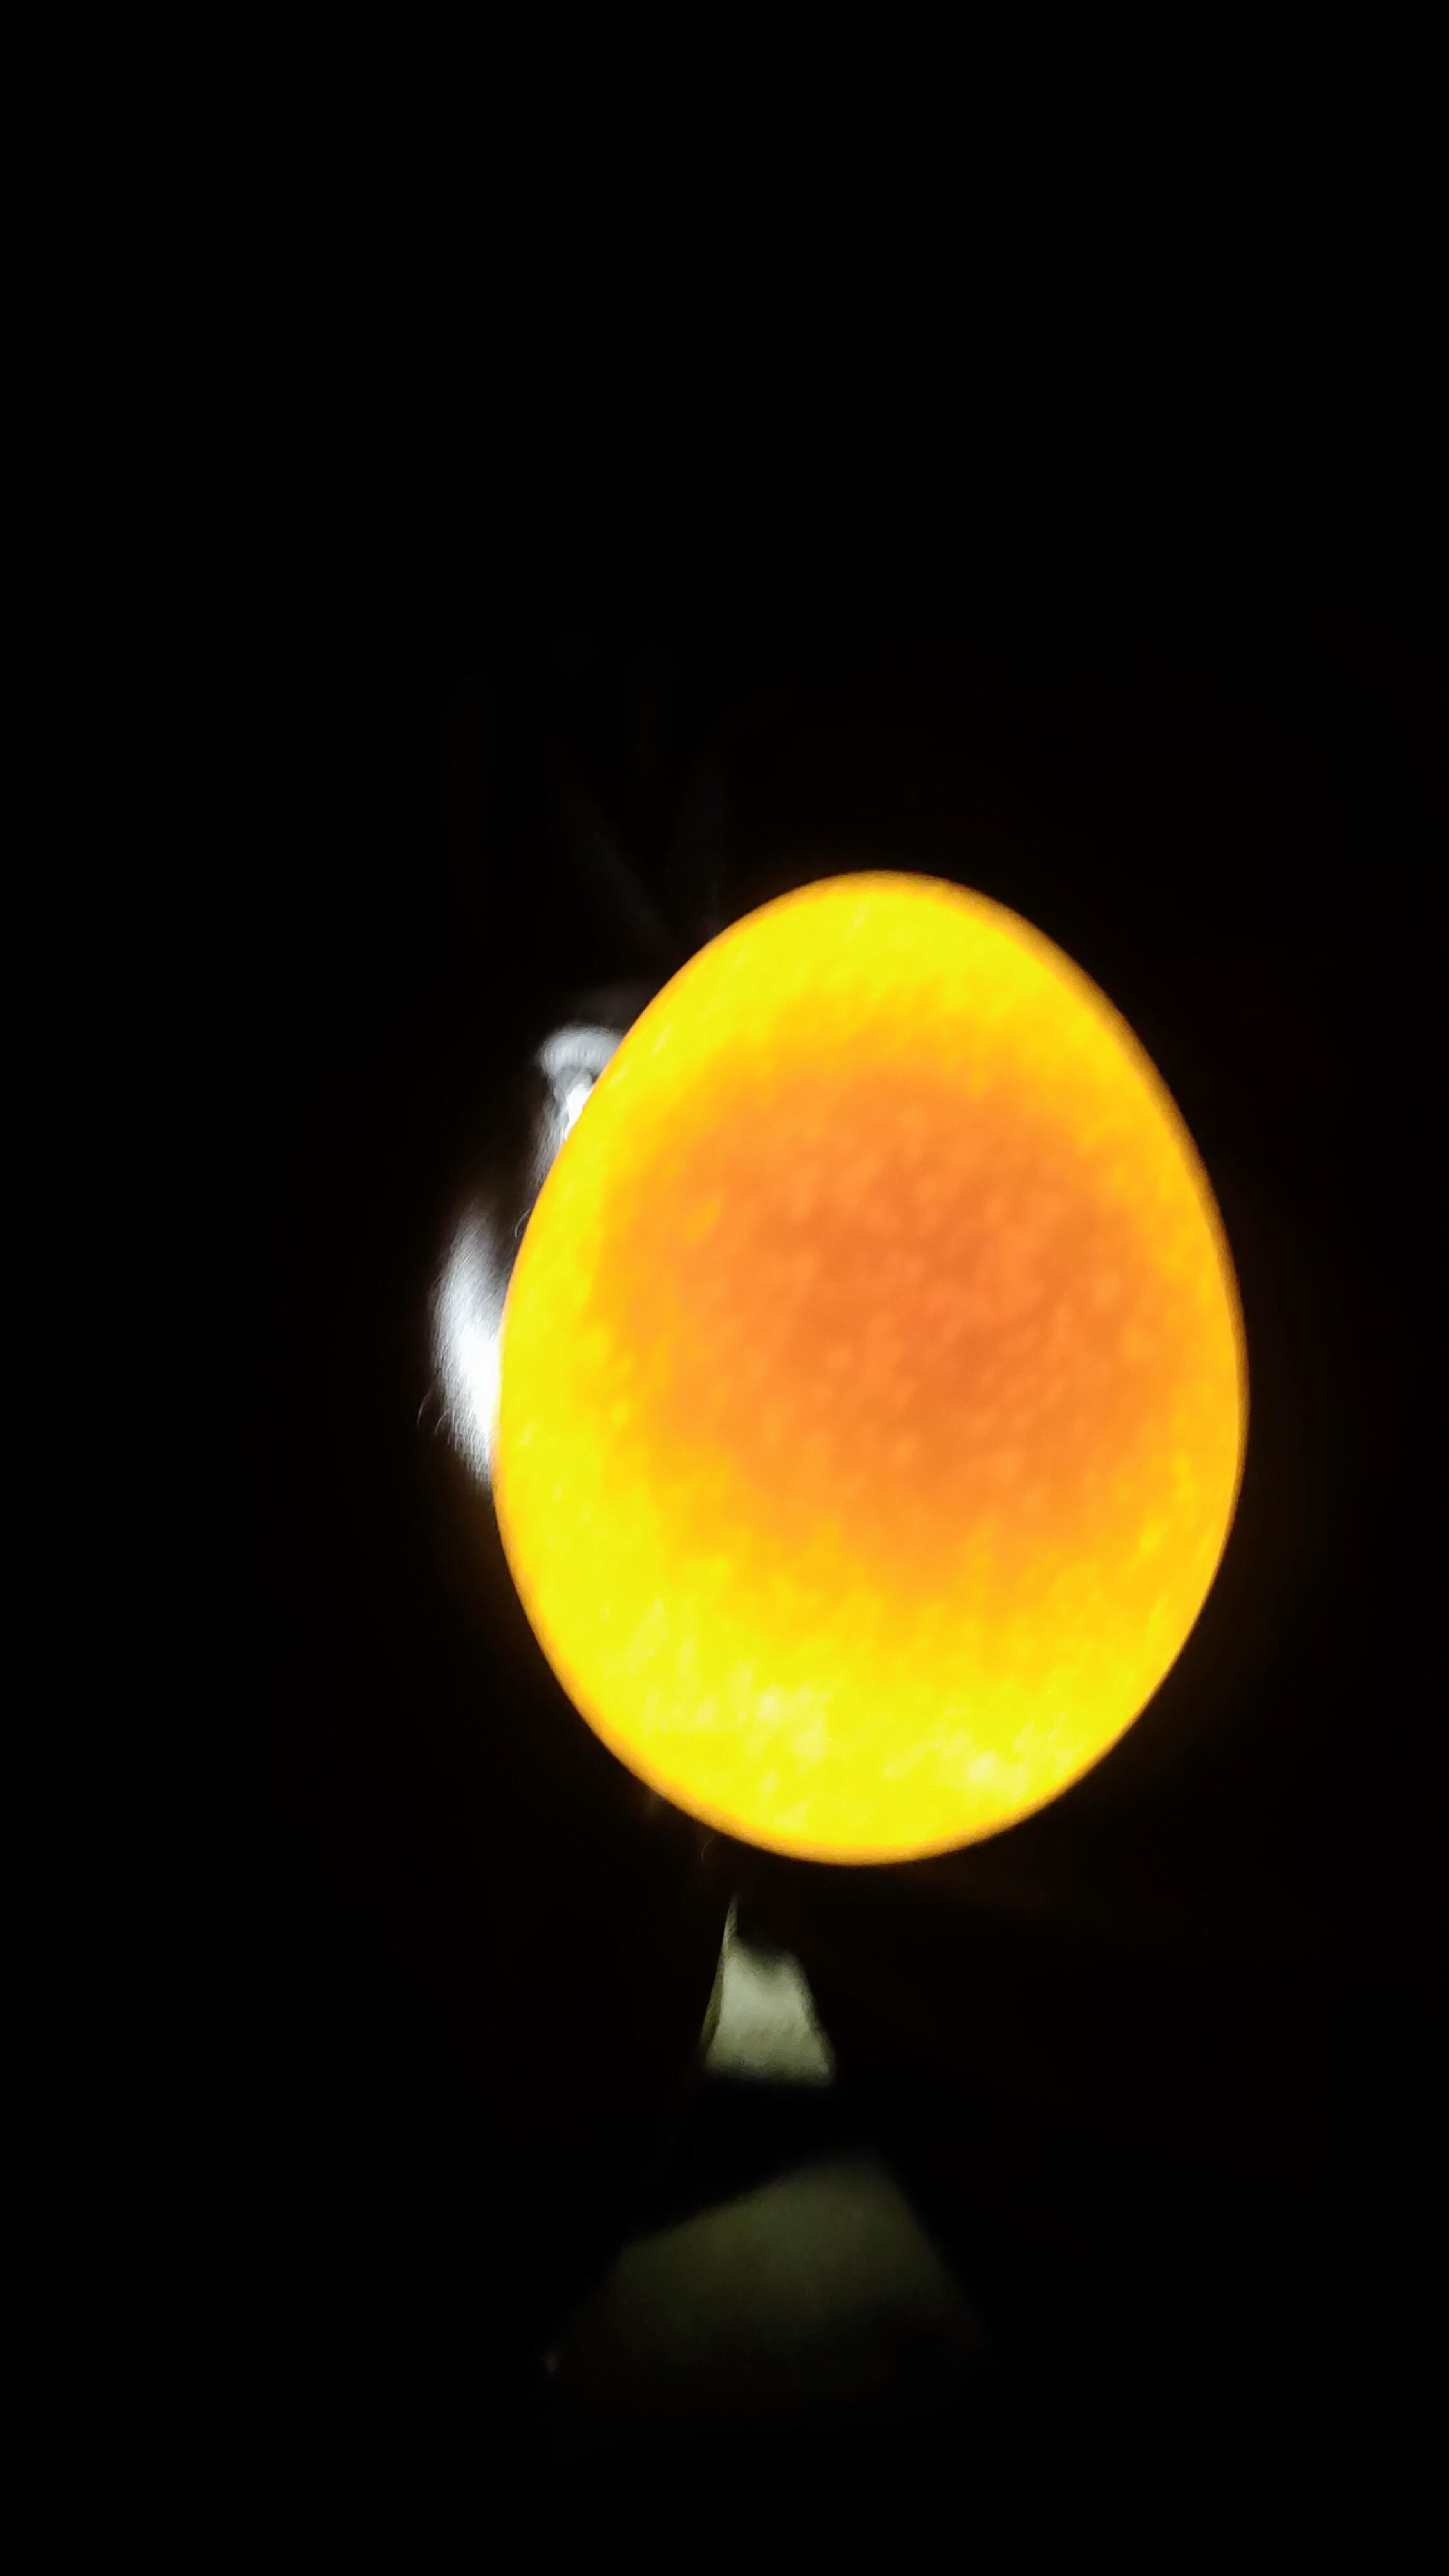A - Good: (419, 805, 1300, 1925)
